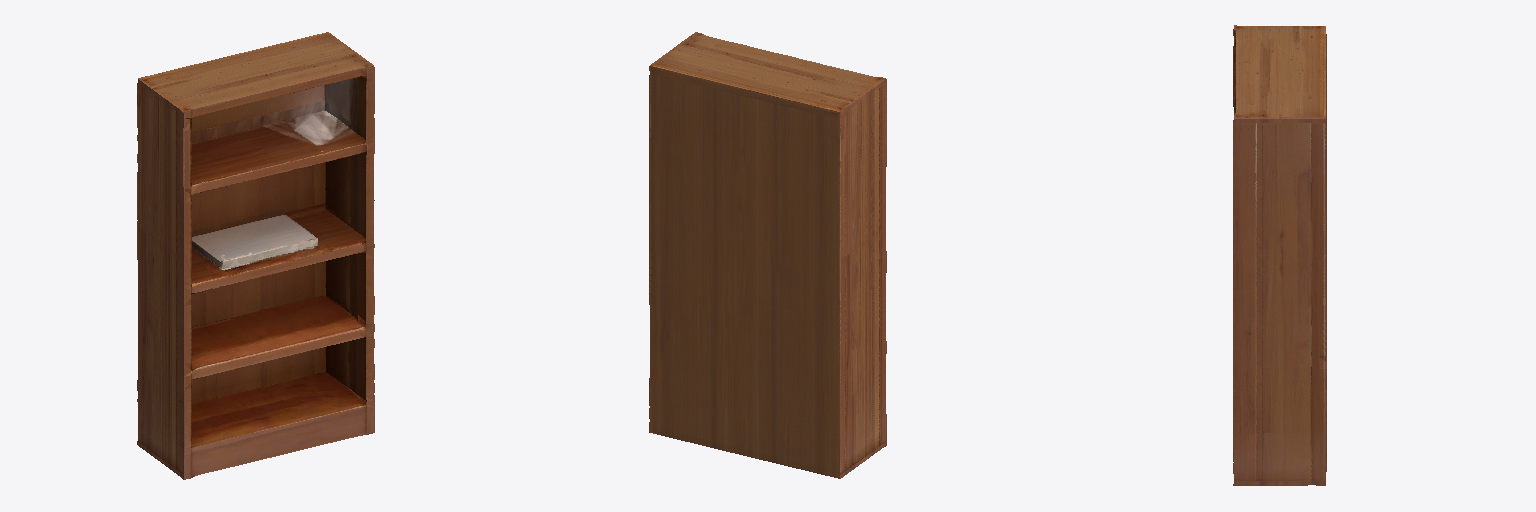
The picture shows the model from 3 angles: view 1: azimuth 30°, elevation 25°; view 2: azimuth 150°, elevation 25°; view 3: azimuth 270°, elevation 25°; orthographic projection.
Visible parts, largest first — view 1: bookshelf; view 2: bookshelf; view 3: bookshelf.
Boxes of the visible parts, box(x1,y1,x2,y2) form: bookshelf: box(137, 32, 374, 479); bookshelf: box(649, 32, 886, 478); bookshelf: box(1233, 25, 1326, 485).
Size of the model in its own units: 1.08 by 1.99 by 0.459.
1 materials, 1 textured.